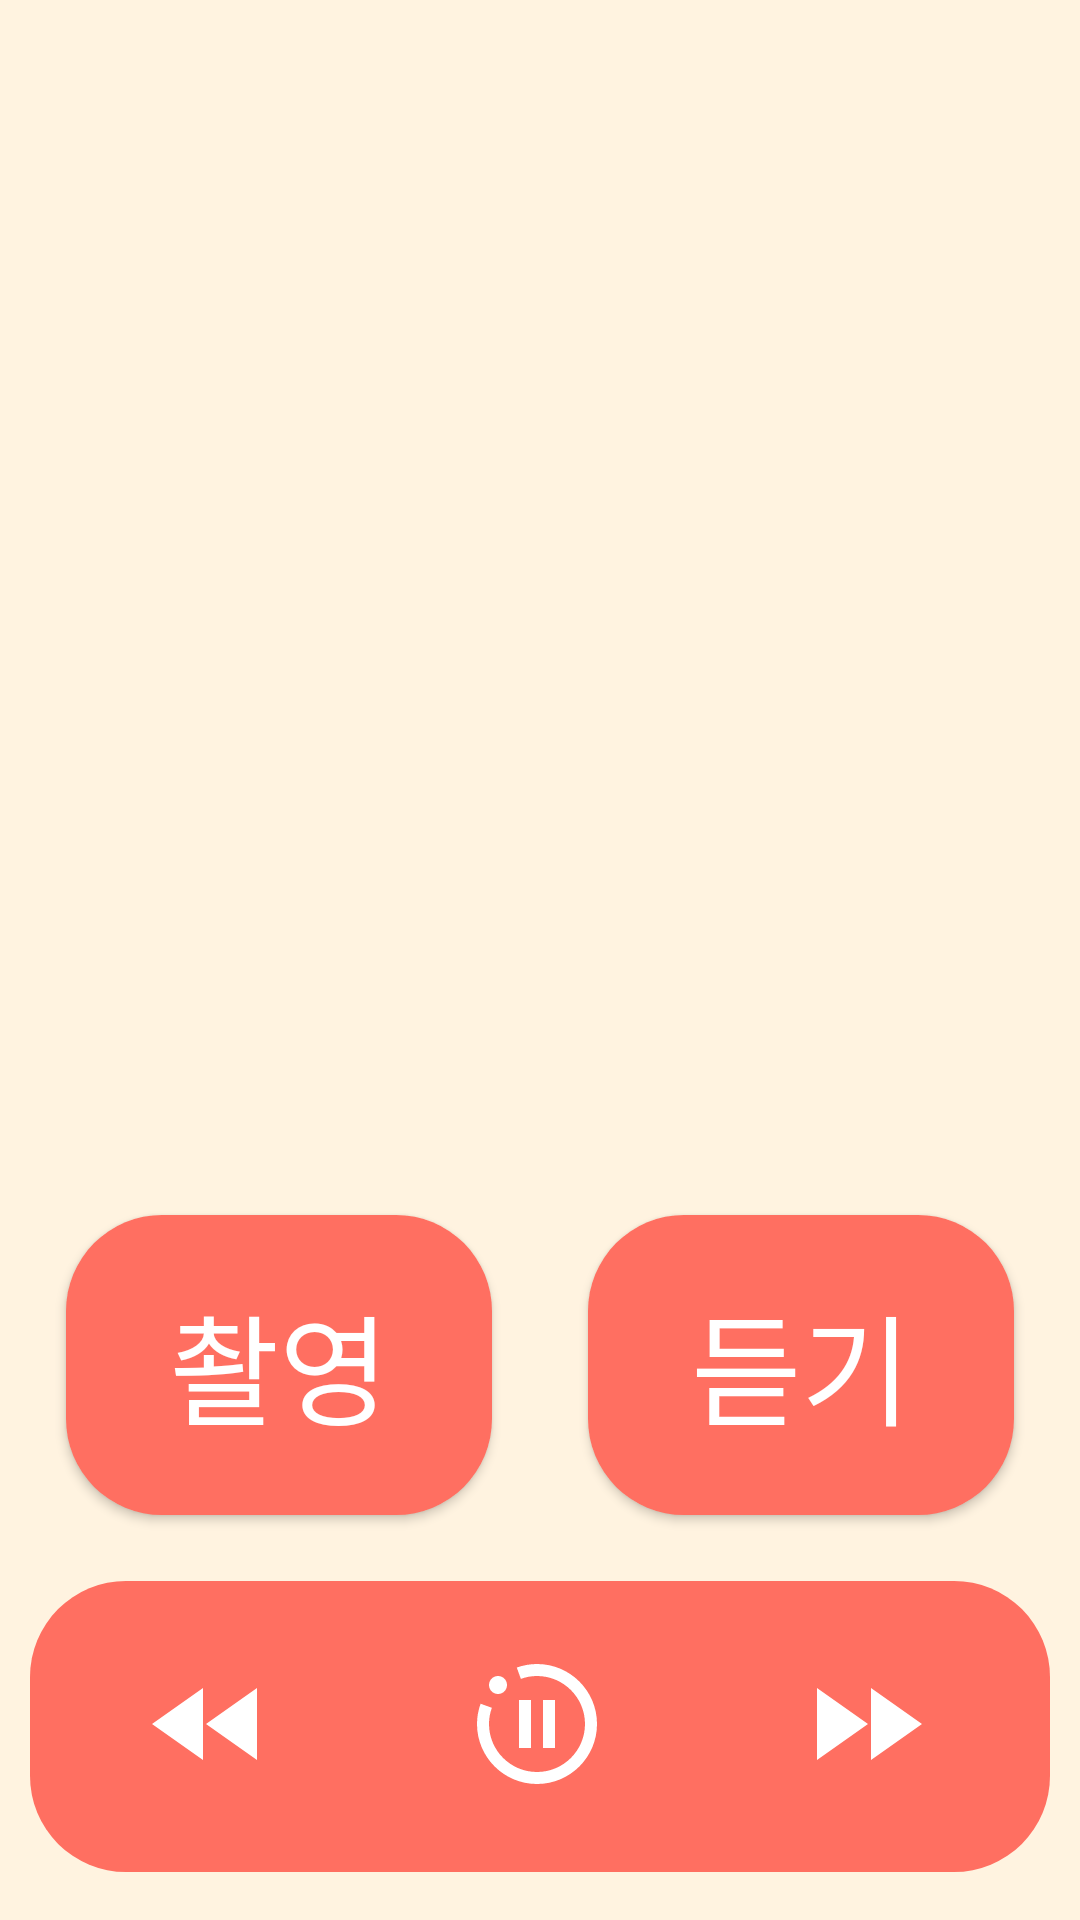

Named icons in this screenshot (1080*1920) and their centers, point (x, y):
Fast Forward: point (869, 1724)
Pause: point (537, 1724)
Rewind: point (204, 1724)
